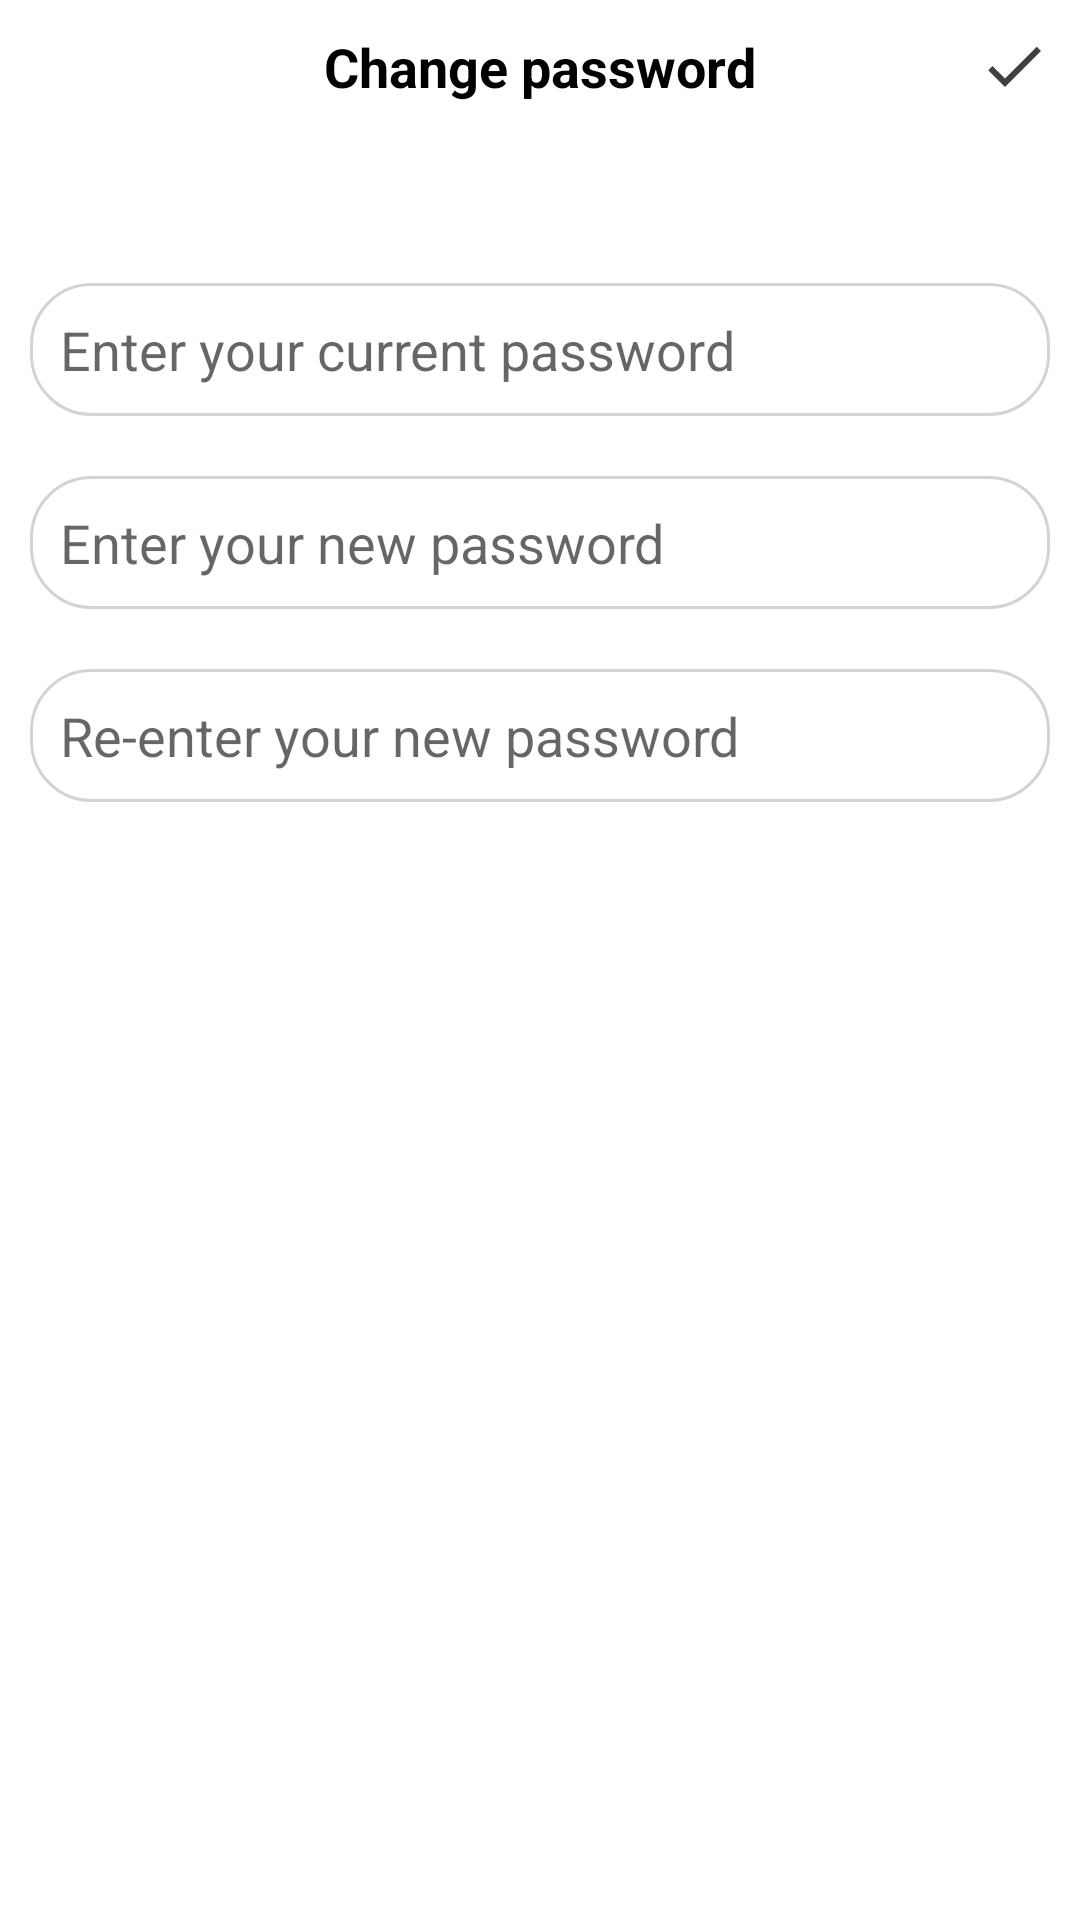

Where to tap for icons on this 1080*1920 app screen, as [x,y]:
check: [1014,67]
